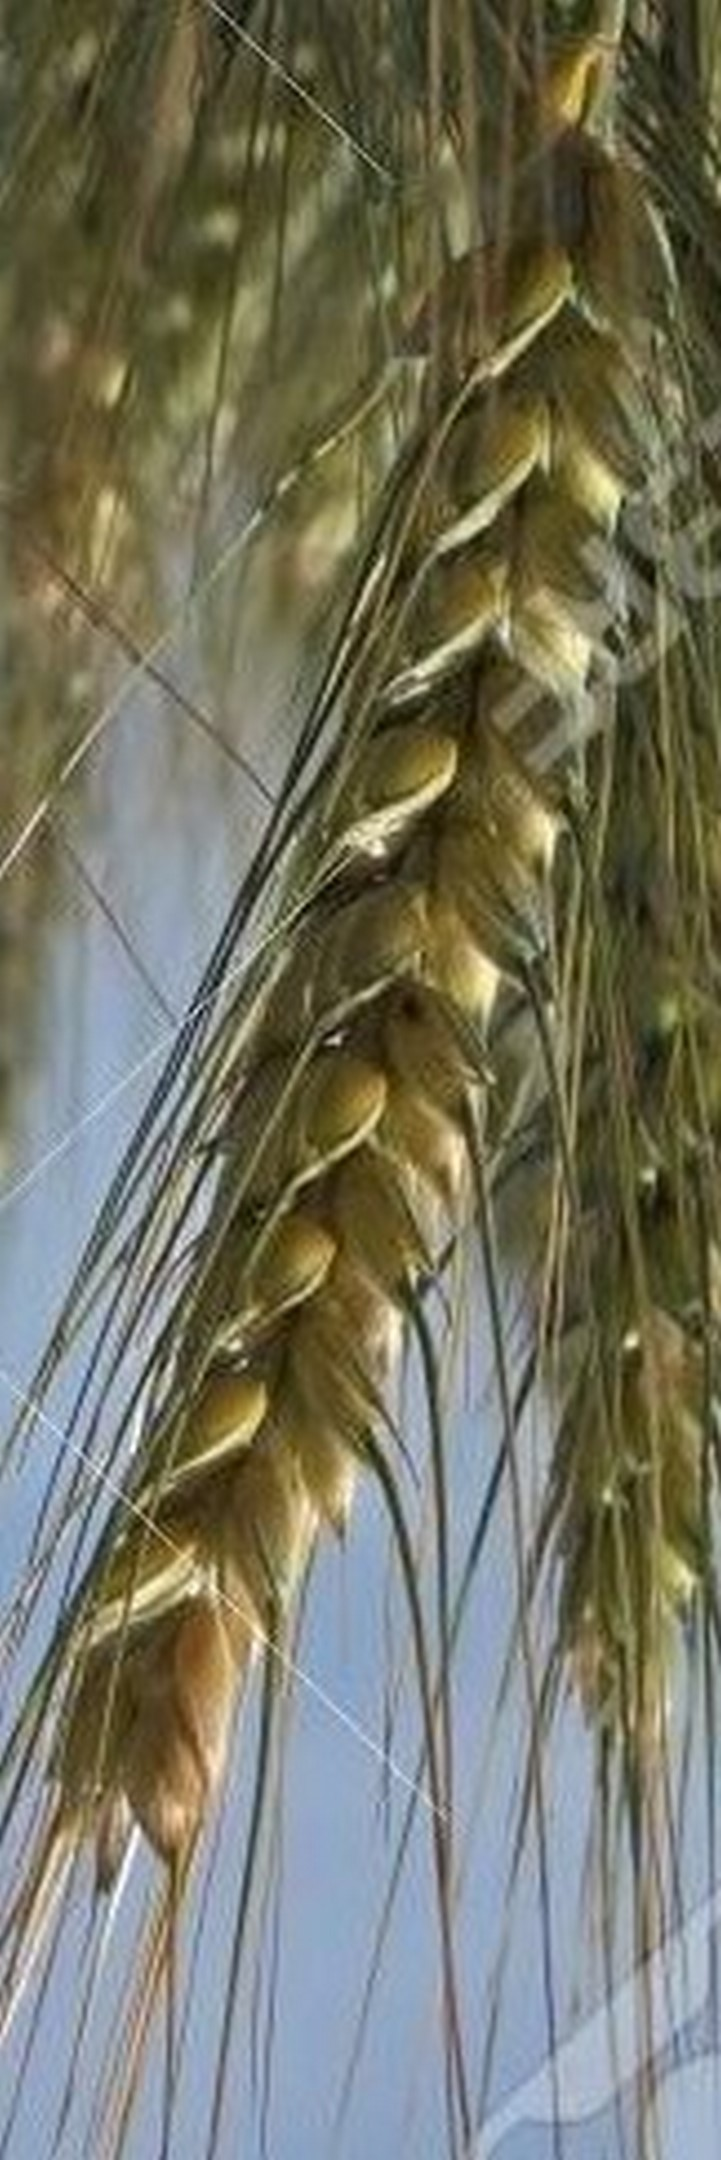Healthy Wheat: (57, 240, 663, 1829)
